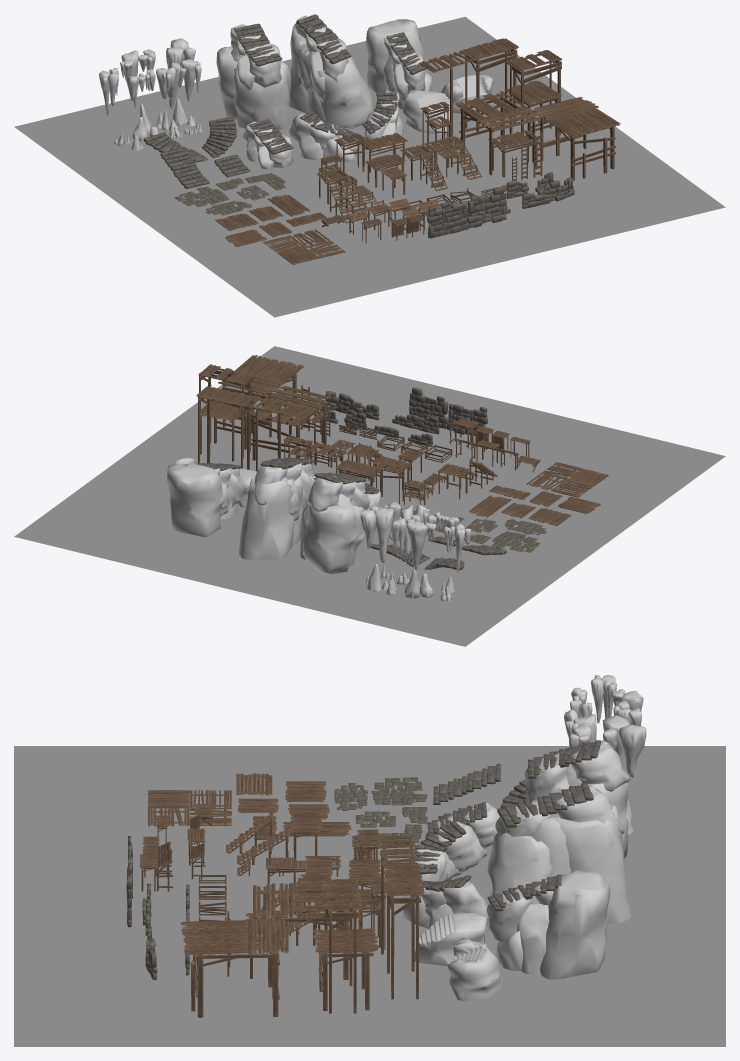
Rendered from Caves_Pieces_1A1.fbx.
3 renders of one model, top to bottom at view 1: azimuth 30°, elevation 25°; view 2: azimuth 150°, elevation 25°; view 3: azimuth 270°, elevation 25°, orthographic. The views are drawn at different scales.
Visible parts, largest first — view 1: Stone_Plane_1A, Stone_Stairs_1A9, Stone_Stairs_1A10, Stone_Stairs_1A8, Scaffolding_Tall_1A5, Scaffolding_Tall_1A4, Scaffolding_Tall_1A1, Stone_Stairs_1A7, Stone_Stairs_1A5, Stone_Stairs_1A6, Scaffolding_Tall_1A2, Stone_Stairs_1B2 (+25 smaller); view 2: Stone_Plane_1A, Stone_Stairs_1A9, Stone_Stairs_1A10, Stone_Stairs_1A8, Scaffolding_Tall_1A4, Scaffolding_Tall_1A1, Scaffolding_Tall_1A5, Stalactites_1A2, Stalactites_1A4, Scaffolding_Tall_1A3, Scaffolding_Tall_1A2, Stone_Wall_1A2 (+11 smaller); view 3: Stone_Plane_1A, Stone_Stairs_1A9, Stone_Stairs_1A8, Scaffolding_Tall_1A5, Stone_Stairs_1A10, Scaffolding_Tall_1A1, Stone_Stairs_1A7, Scaffolding_Tall_1A4, Stone_Stairs_1B1, Stone_Stairs_1A6, Scaffolding_Tall_1A3, Stone_Stairs_1B2 (+18 smaller).
Part boxes in pixels (left/top/right/bottom): Stone_Plane_1A: left=14, top=16, right=725, bottom=317; Stone_Stairs_1A9: left=289, top=14, right=374, bottom=128; Stone_Stairs_1A10: left=216, top=23, right=291, bottom=129; Stone_Stairs_1A8: left=366, top=19, right=431, bottom=109; Scaffolding_Tall_1A5: left=534, top=97, right=620, bottom=180; Scaffolding_Tall_1A4: left=455, top=91, right=541, bottom=175; Scaffolding_Tall_1A1: left=419, top=38, right=518, bottom=143; Stone_Stairs_1A7: left=288, top=110, right=359, bottom=161; Stone_Stairs_1A5: left=242, top=119, right=293, bottom=169; Stone_Stairs_1A6: left=362, top=91, right=403, bottom=151; Scaffolding_Tall_1A2: left=505, top=50, right=562, bottom=135; Stone_Stairs_1B2: left=402, top=89, right=449, bottom=134; Stone_Plane_1A: left=14, top=346, right=725, bottom=646; Stone_Stairs_1A9: left=239, top=457, right=314, bottom=560; Stone_Stairs_1A10: left=299, top=472, right=369, bottom=574; Stone_Stairs_1A8: left=166, top=462, right=243, bottom=537; Scaffolding_Tall_1A4: left=245, top=386, right=331, bottom=460; Scaffolding_Tall_1A1: left=196, top=386, right=300, bottom=471; Scaffolding_Tall_1A5: left=218, top=355, right=304, bottom=437; Stalactites_1A2: left=360, top=505, right=393, bottom=563; Stalactites_1A4: left=391, top=518, right=436, bottom=570; Scaffolding_Tall_1A3: left=197, top=400, right=251, bottom=461; Scaffolding_Tall_1A2: left=198, top=364, right=255, bottom=458; Stone_Wall_1A2: left=409, top=387, right=448, bottom=428; Stone_Plane_1A: left=14, top=746, right=725, bottom=1046; Stone_Stairs_1A9: left=487, top=782, right=631, bottom=924; Stone_Stairs_1A8: left=486, top=870, right=610, bottom=979; Scaffolding_Tall_1A5: left=180, top=918, right=288, bottom=1017; Stone_Stairs_1A10: left=524, top=740, right=630, bottom=858; Scaffolding_Tall_1A1: left=377, top=835, right=423, bottom=999; Stone_Stairs_1A7: left=406, top=821, right=486, bottom=881; Scaffolding_Tall_1A4: left=253, top=883, right=360, bottom=981; Stone_Stairs_1B1: left=448, top=938, right=503, bottom=1001; Stone_Stairs_1A6: left=403, top=875, right=488, bottom=929; Scaffolding_Tall_1A3: left=313, top=928, right=378, bottom=1010; Stone_Stairs_1B2: left=414, top=912, right=487, bottom=966.
Size of the model in its own units: 7657 by 2110 by 7657.
